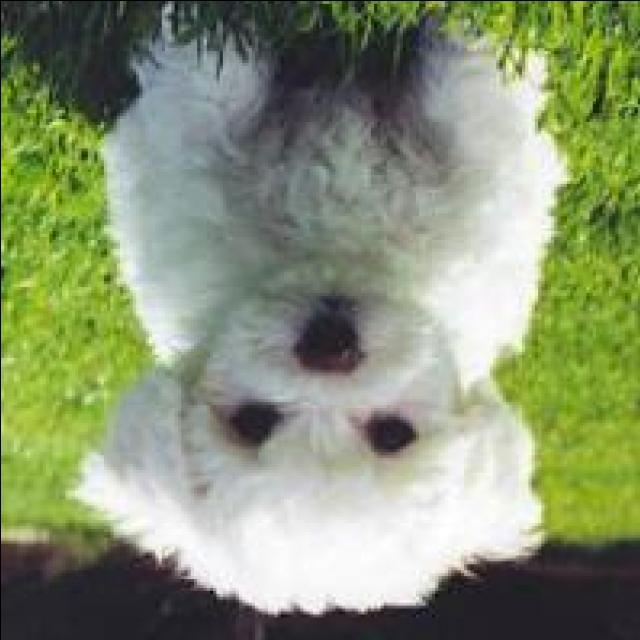maltese_dog: (58, 12, 556, 616)
